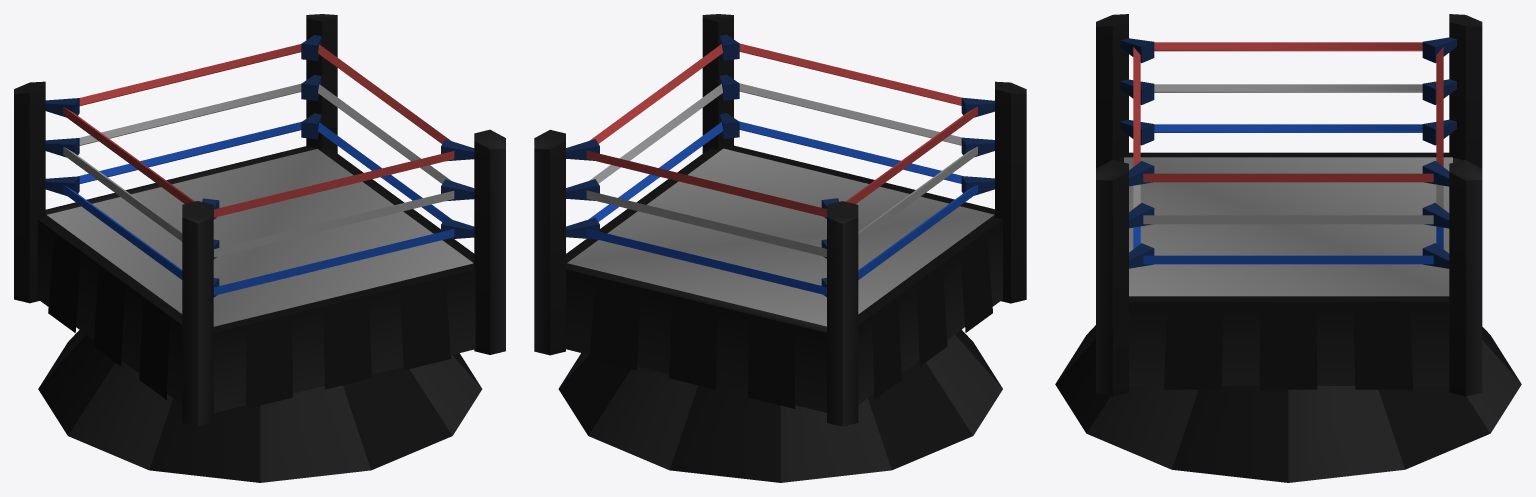
Rendered from hat_wrestlering.glb.
3 renders of one model, left to right at view 1: azimuth 30°, elevation 25°; view 2: azimuth 150°, elevation 25°; view 3: azimuth 270°, elevation 25°, orthographic. The views are drawn at different scales.
Visible parts, largest first — view 1: hat_wrestlering; view 2: hat_wrestlering; view 3: hat_wrestlering.
Boxes of the visible parts, x1=… form: hat_wrestlering: x1=14, y1=14, x2=505, y2=482; hat_wrestlering: x1=534, y1=14, x2=1026, y2=482; hat_wrestlering: x1=1055, y1=14, x2=1521, y2=482.
Size of the model in its own units: 0.3769 by 0.2597 by 0.3769.
